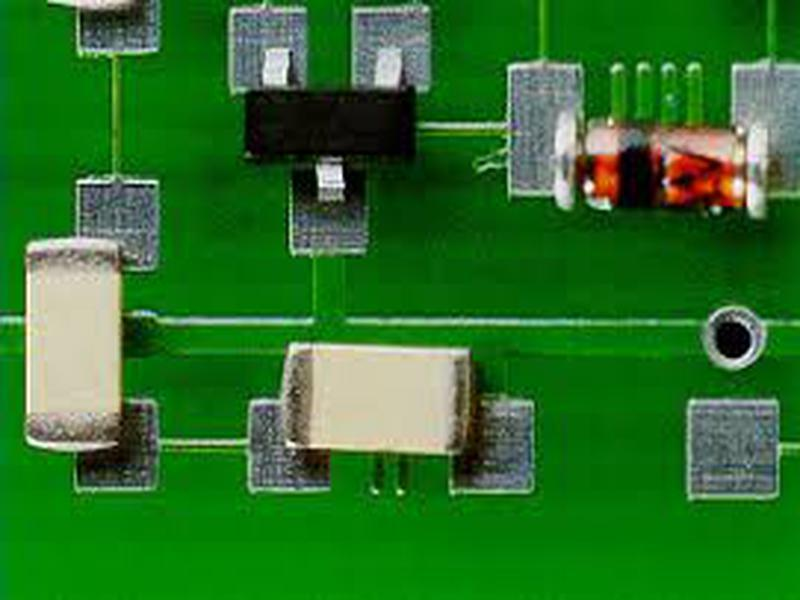SMD capacitor: (271, 333, 481, 464), (23, 232, 127, 460)
diode: (561, 116, 772, 226)
